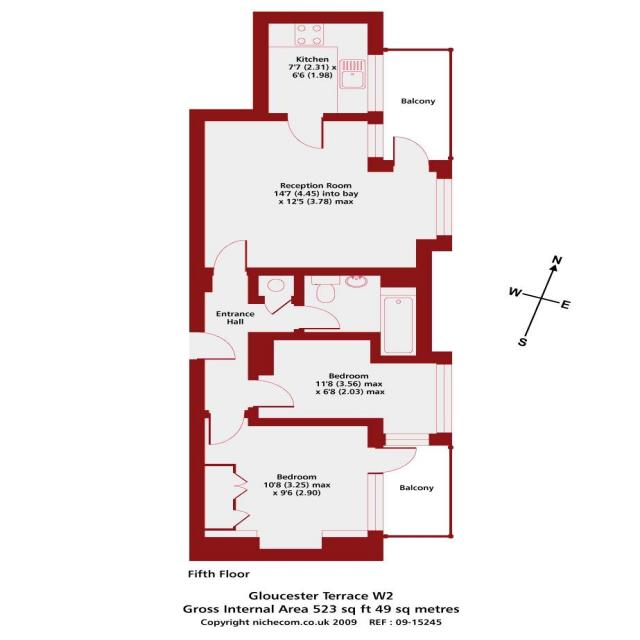DOOR: (391, 134, 431, 172), (285, 112, 325, 150), (189, 330, 237, 361), (207, 410, 246, 446), (211, 239, 248, 276), (248, 379, 295, 408), (367, 447, 418, 473), (294, 304, 341, 330)
ROOM: (189, 109, 453, 276), (189, 410, 431, 562), (248, 332, 453, 446), (252, 11, 384, 150)
WINDOW: (435, 364, 453, 433), (434, 178, 453, 237), (367, 54, 384, 113), (367, 473, 384, 531), (367, 123, 384, 158), (385, 433, 430, 446)
